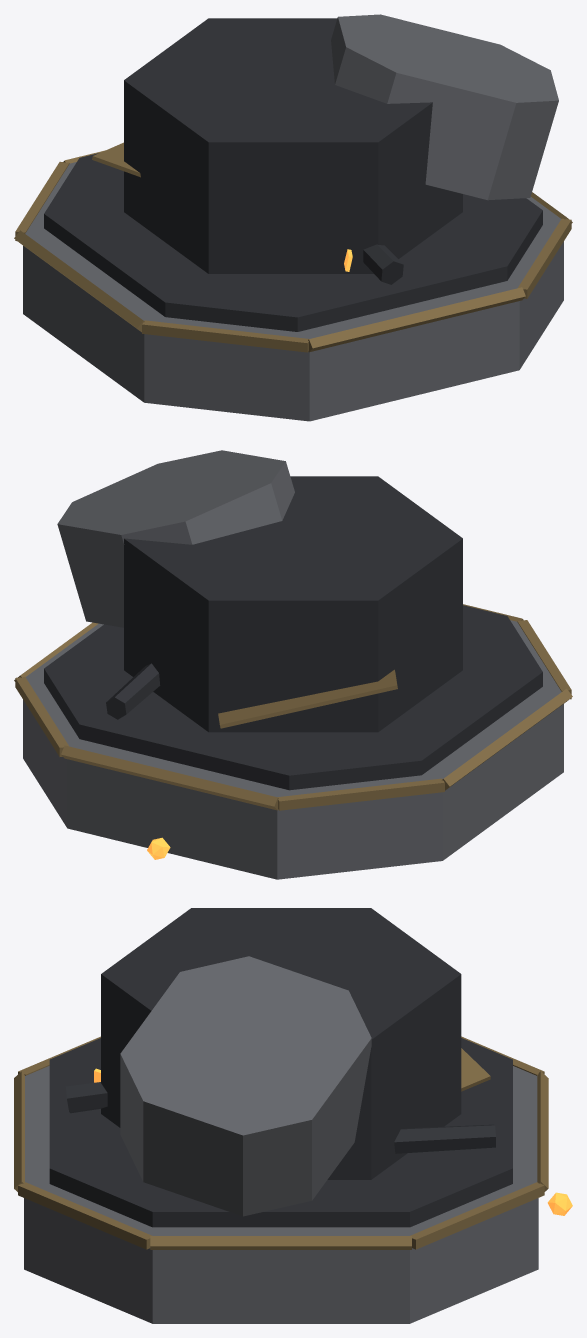
Rendered from Wreck_Aegis_SentinelTurret.fbx.
3 views of the same model, one above another, from view 1: azimuth 30°, elevation 25°; view 2: azimuth 150°, elevation 25°; view 3: azimuth 270°, elevation 25° (orthographic). The views are drawn at different scales.
Parts seen in each view (by area): view 1: Wreck_Aegis_SentinelTurret; view 2: Wreck_Aegis_SentinelTurret; view 3: Wreck_Aegis_SentinelTurret.
Boxes of the visible parts, bbox=[...] form: Wreck_Aegis_SentinelTurret: bbox=[14, 14, 572, 421]; Wreck_Aegis_SentinelTurret: bbox=[14, 450, 572, 879]; Wreck_Aegis_SentinelTurret: bbox=[14, 908, 572, 1323].
Bounding box in the file's own units: 1.31 × 0.7159 × 1.3.
